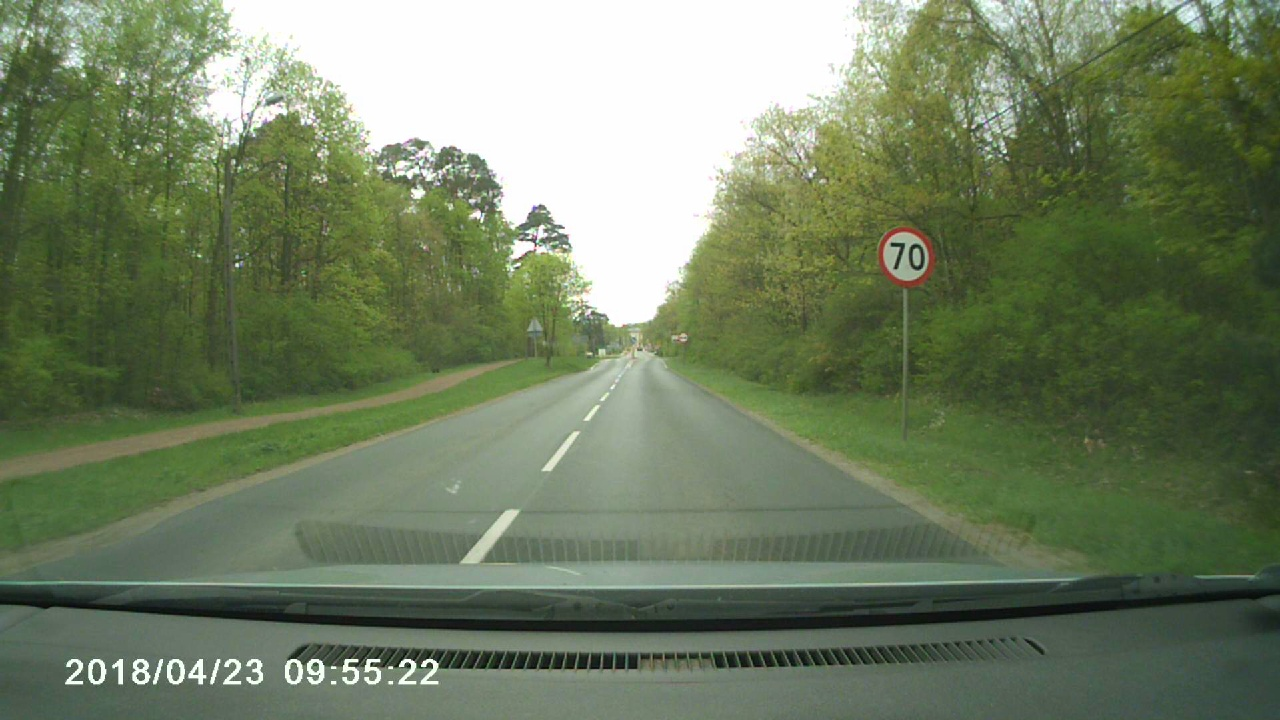B33_70: (879, 227, 935, 289)
